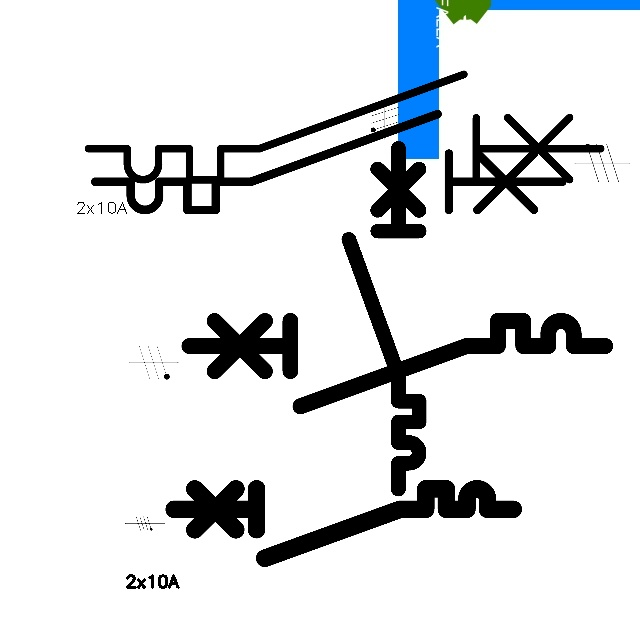interruptor_termomagnetico: (75, 61, 614, 193), (83, 102, 574, 222), (178, 310, 615, 417), (340, 139, 428, 498), (165, 480, 522, 567)
